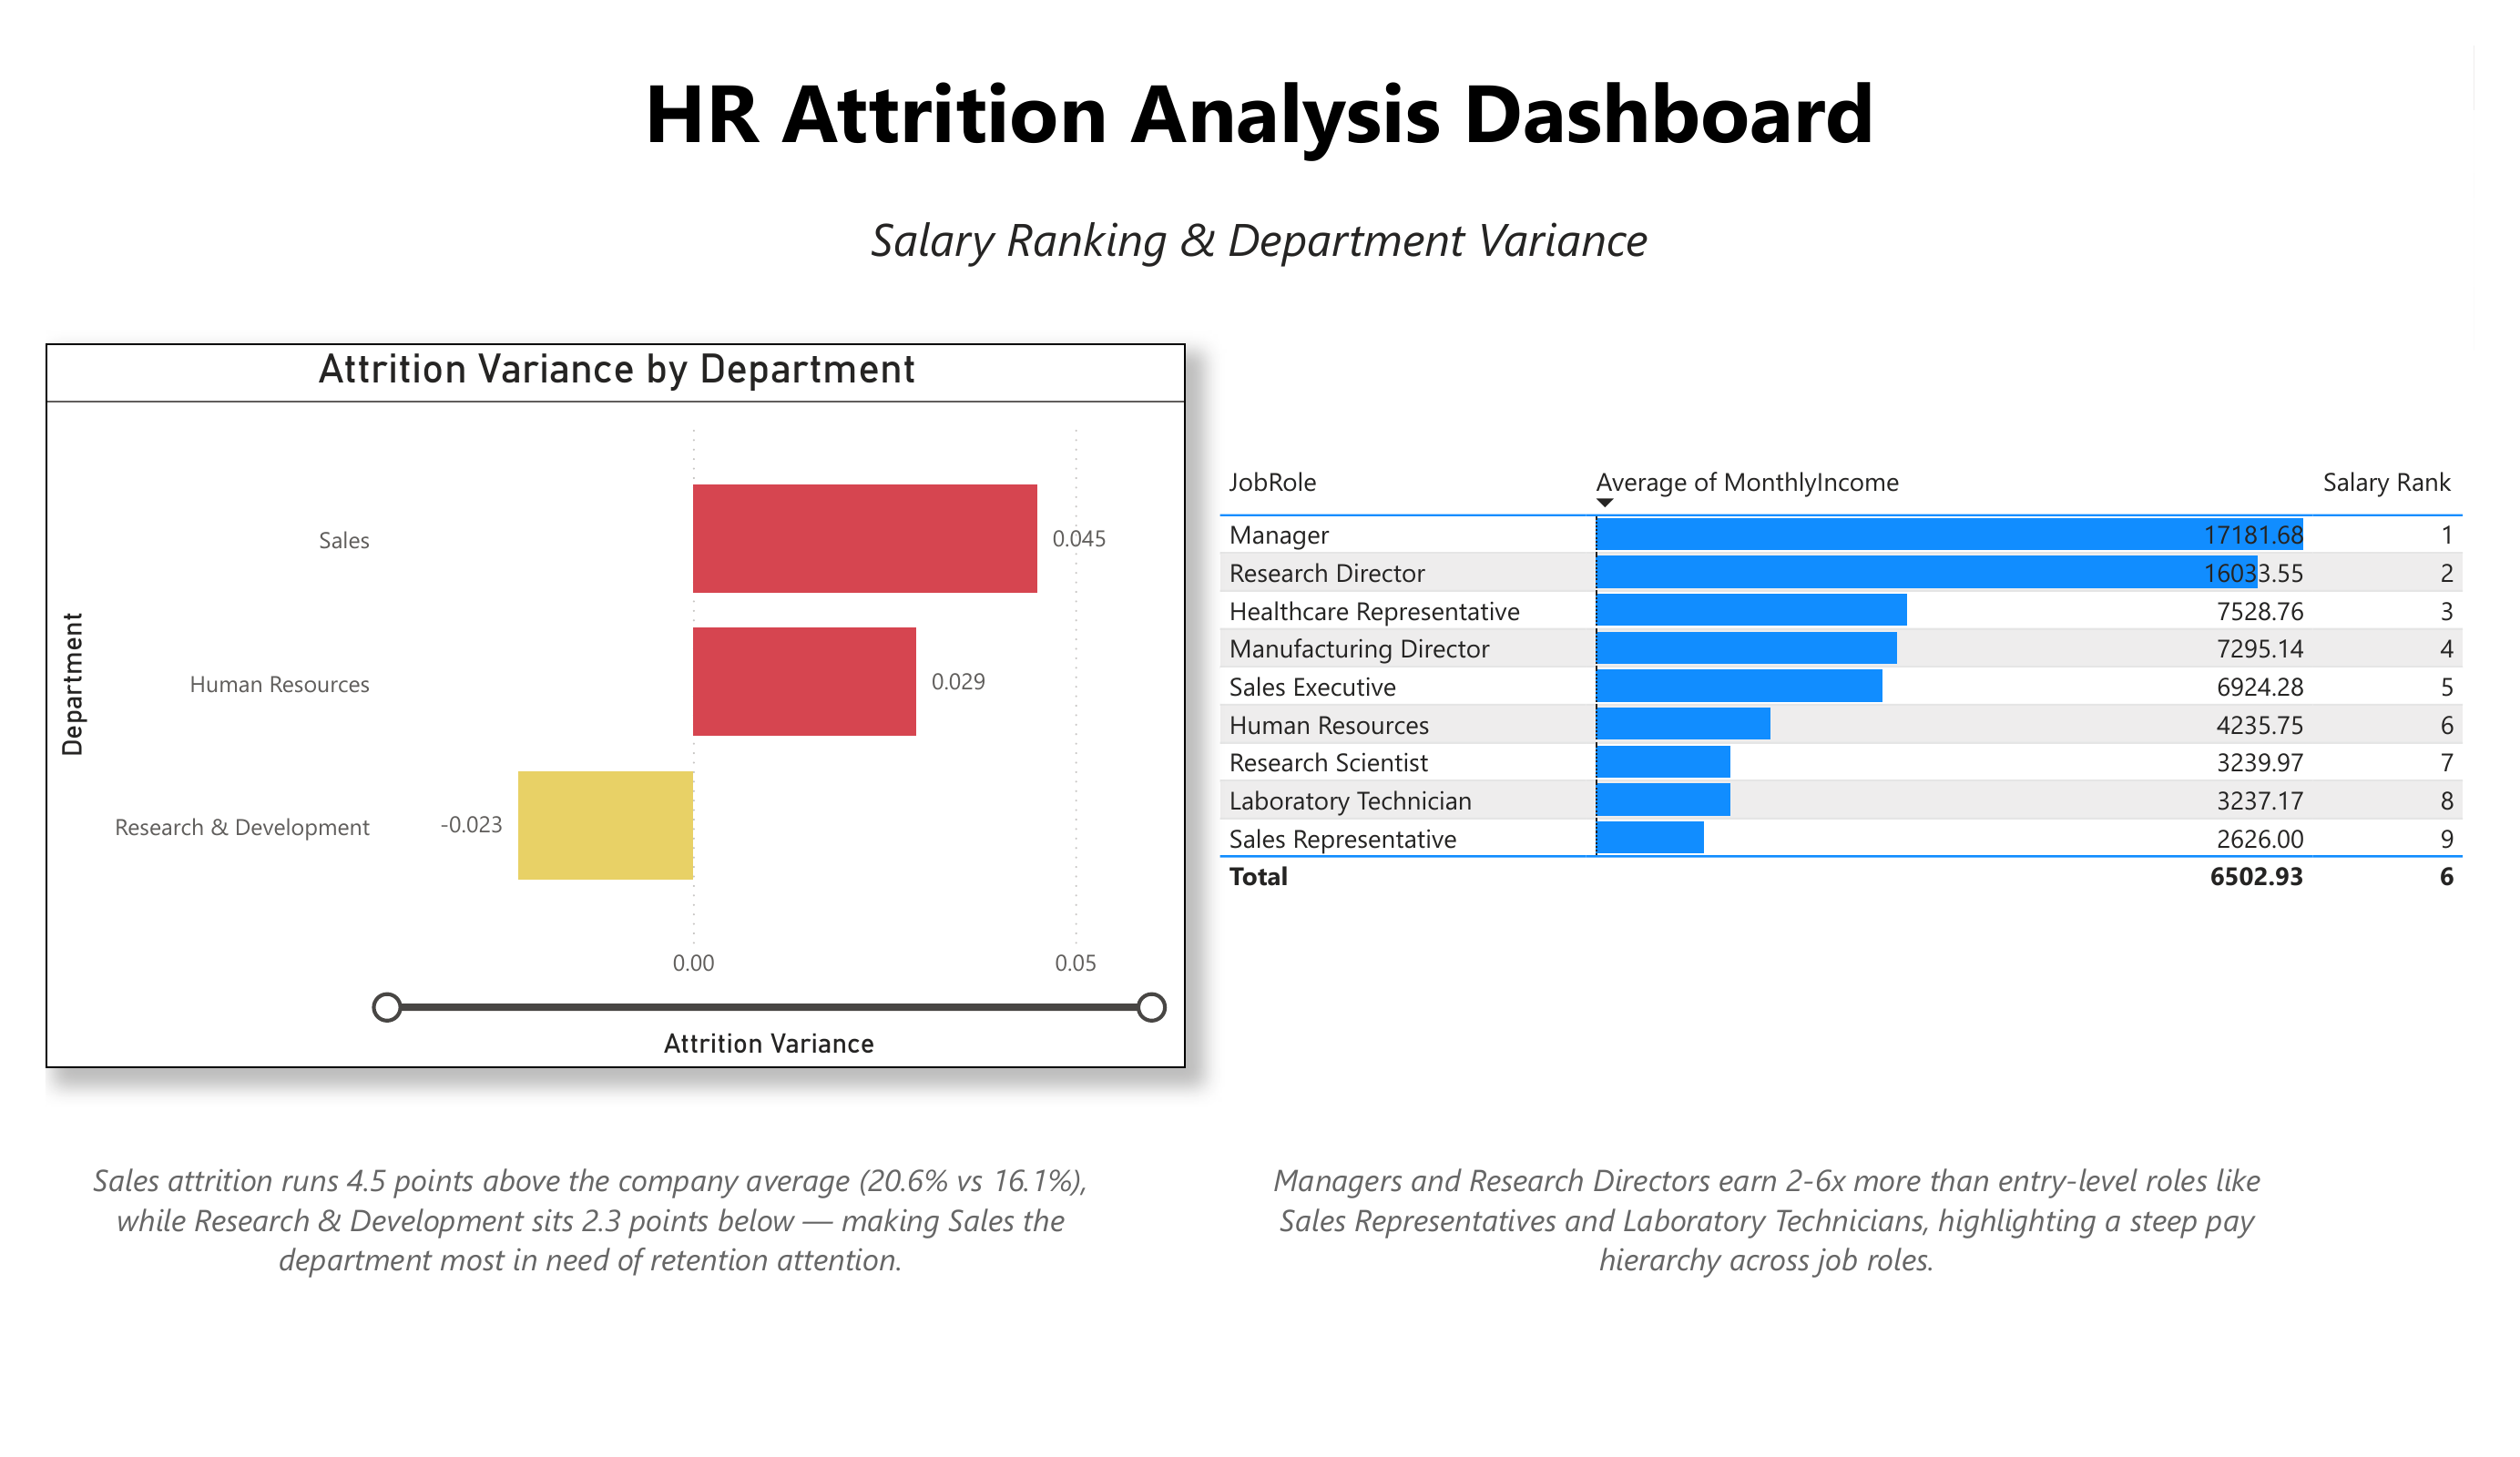

The page's visual inventory and layout, read from the dashboard file:
{"tool":"powerbi","page":{"name":"Advanced Insights","canvas":[1280,720],"ordinal":3},"visuals":[{"type":"tableEx","fields":{"Values":["hr - Copy.JobRole","Avg(hr - Copy.MonthlyIncome)","hr - Copy.Salary Rank"]},"box":[613.2,215.1,667.3,266.3],"z":0},{"type":"clusteredBarChart","fields":{"Y":["hr - Copy.Attrition Variance"],"Category":["hr - Copy.Department"]},"box":[0,156.6,601.5,382],"z":1000},{"type":"textbox","box":[639.5,582.4,535.6,98],"z":2000},{"type":"textbox","box":[0,582.4,575.1,90.7],"z":3000},{"type":"textbox","box":[0,0,1280.5,67.3],"z":4000},{"type":"textbox","box":[0,80.5,1280.5,46.8],"z":5000}]}

Visuals, with their boxes on the page's 1280x720 design canvas (x1, y1, x2, y2). These are canvas units, not pixel positions in the 2520x1457 screenshot, which may show the page scaled, cropped or inside an application window:
tableEx - hr - Copy.JobRole x Avg(hr - Copy.MonthlyIncome): bbox=(613, 215, 1280, 481)
clusteredBarChart - hr - Copy.Attrition Variance x hr - Copy.Department: bbox=(0, 157, 602, 539)
textbox: bbox=(640, 582, 1175, 680)
textbox: bbox=(0, 582, 575, 673)
textbox: bbox=(0, 0, 1280, 67)
textbox: bbox=(0, 80, 1280, 127)
